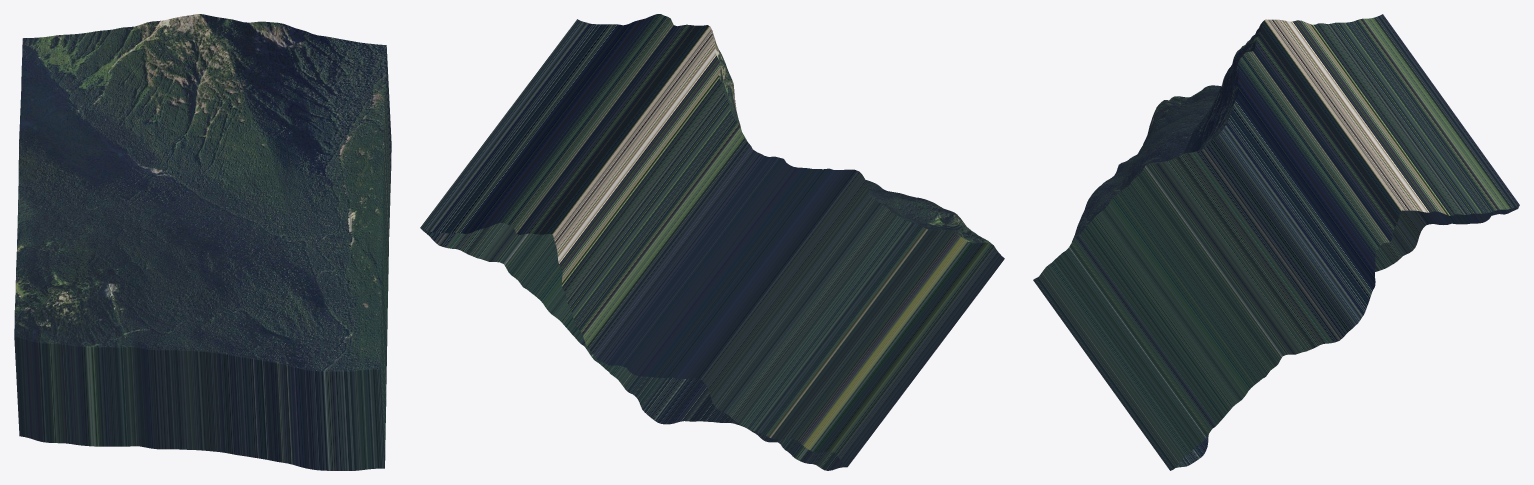
3 renders of one model, left to right at view 1: azimuth 30°, elevation 25°; view 2: azimuth 150°, elevation 25°; view 3: azimuth 270°, elevation 25°, orthographic. The views are drawn at different scales.
Size of the model in its own units: 6321 by 5610 by 6212.
1 material, 1 textured.
